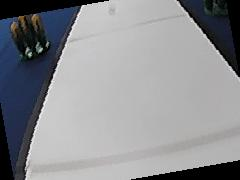corn: (9, 13, 52, 56)
